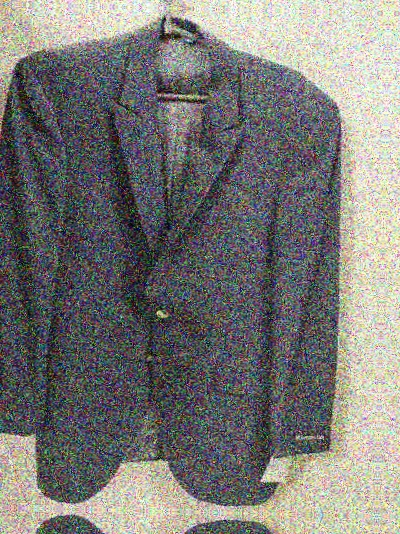Blazer: (0, 28, 361, 510), (0, 513, 350, 534), (393, 523, 400, 534)
